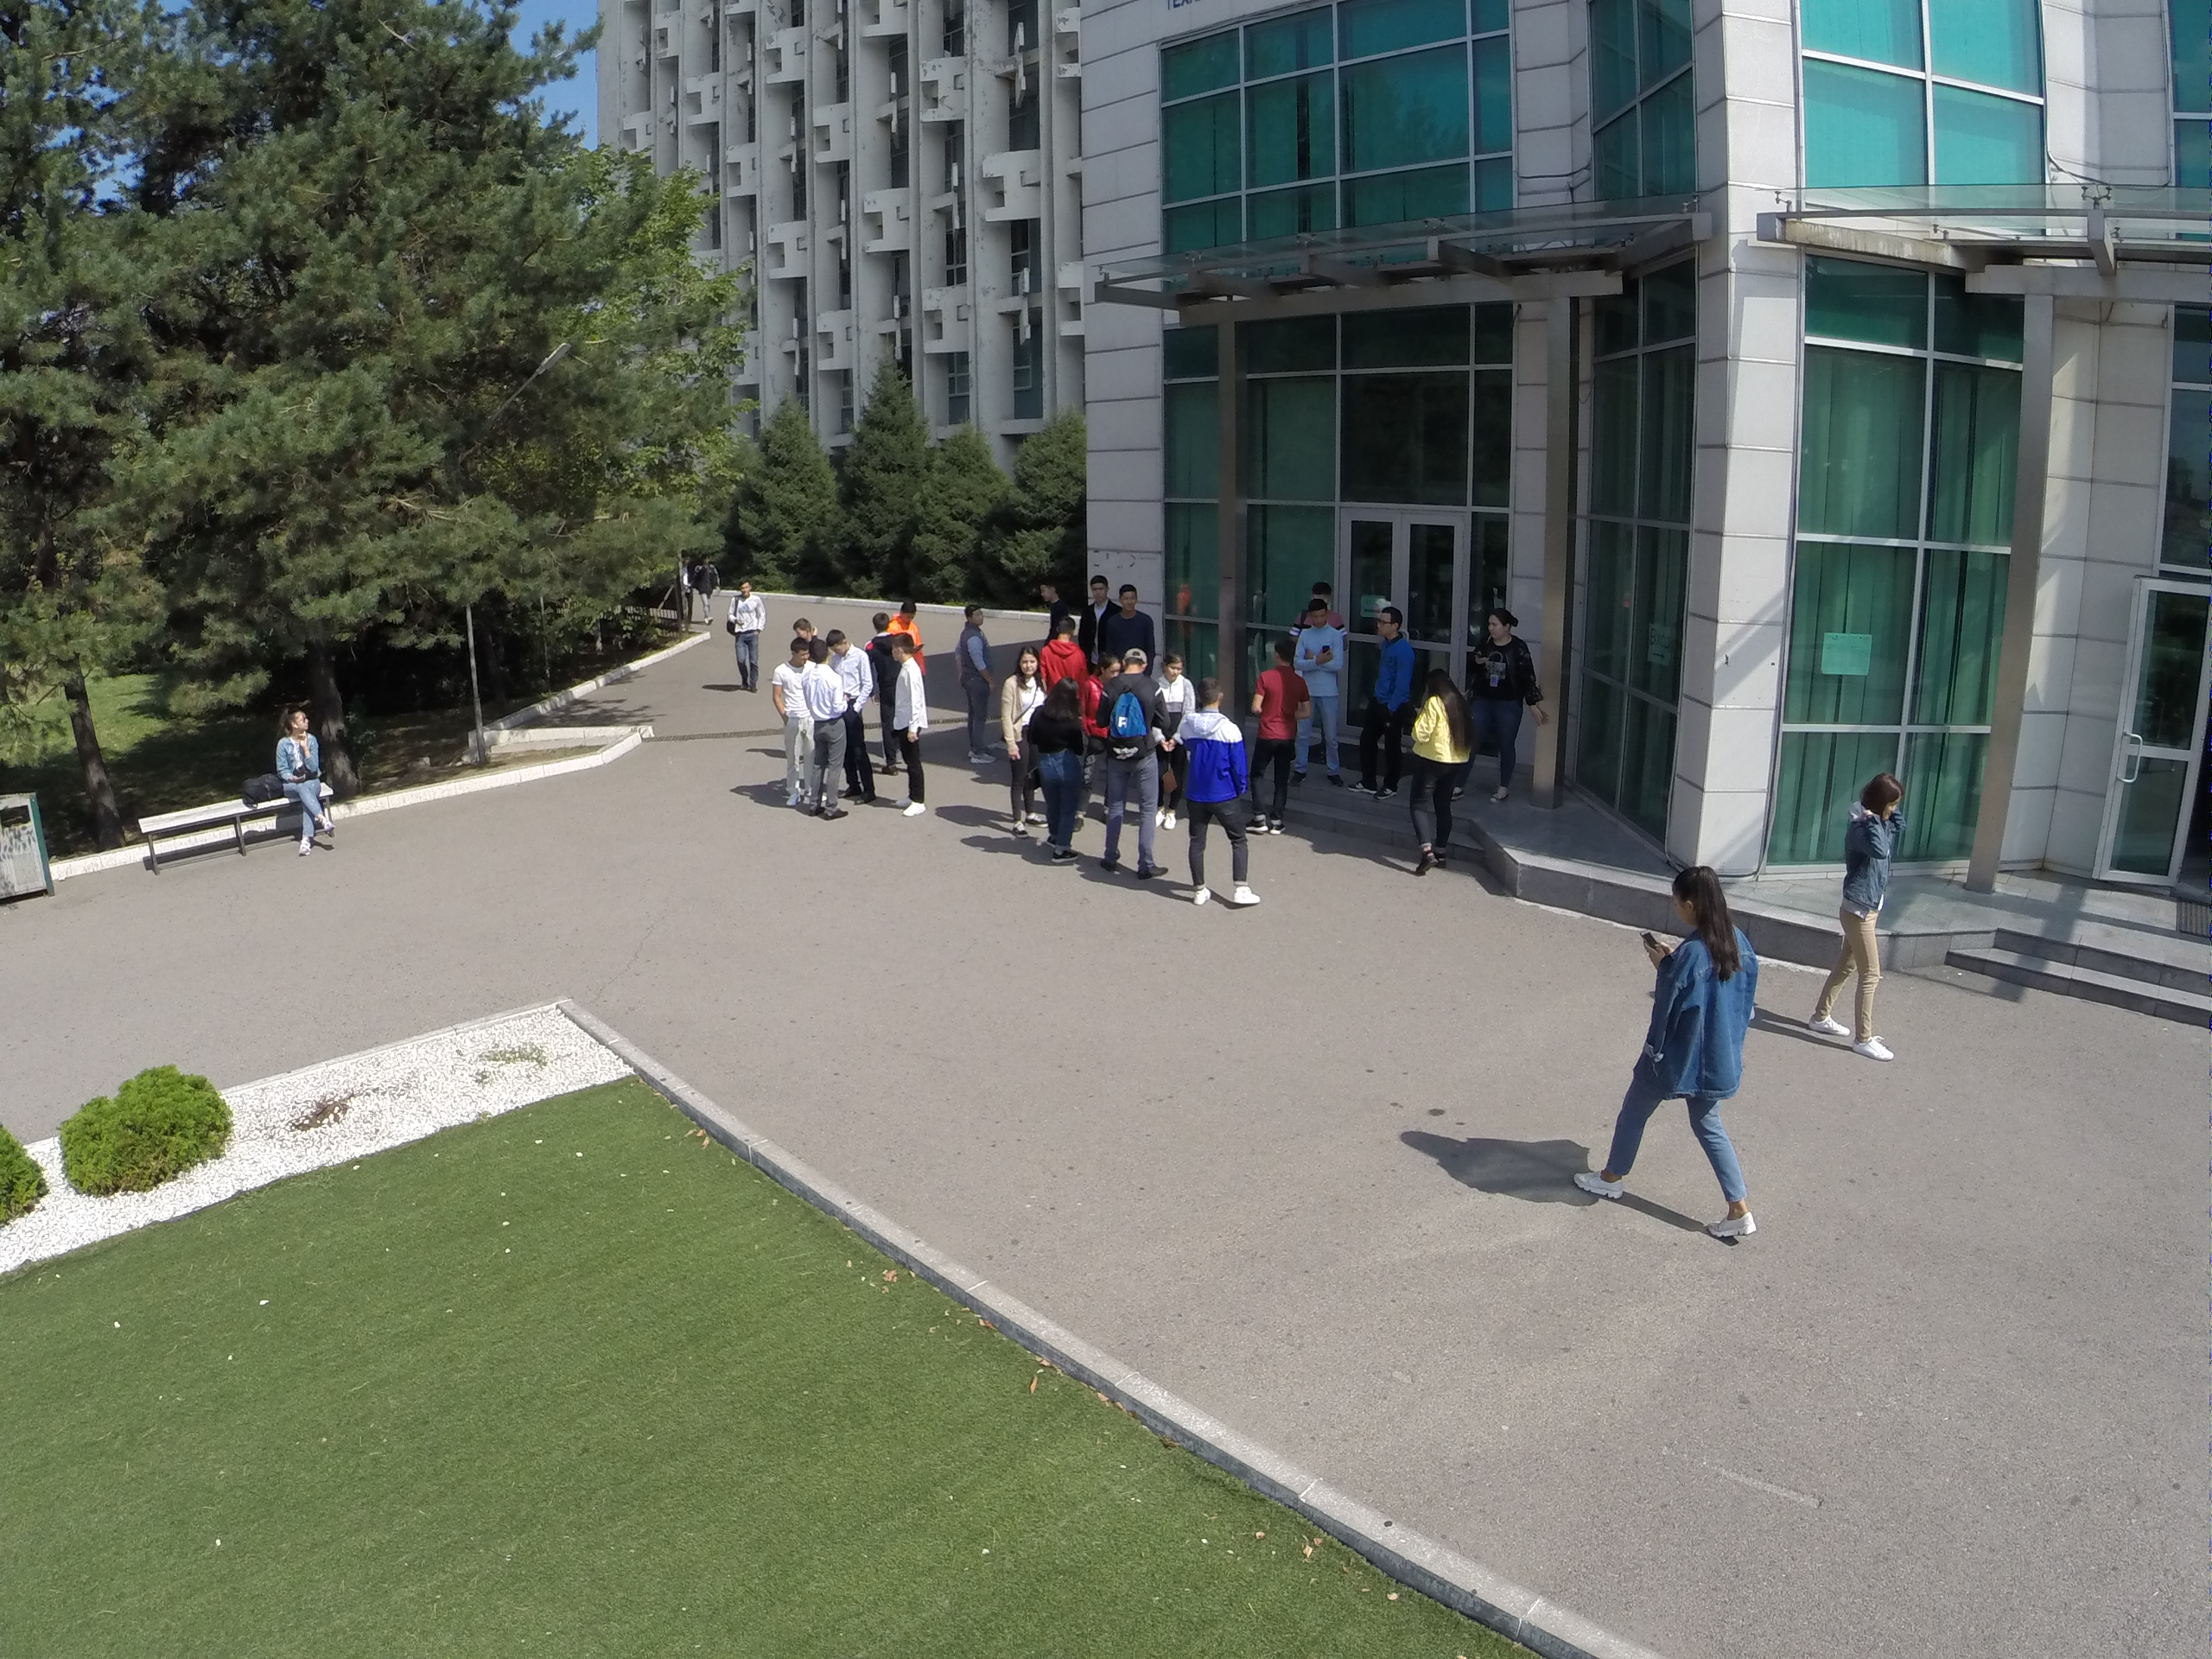person: (1575, 861, 1764, 1243), (1797, 769, 1916, 1077), (1450, 601, 1553, 810), (1177, 674, 1258, 912), (1398, 665, 1470, 887), (1107, 652, 1160, 877), (1250, 635, 1302, 832), (1359, 605, 1410, 796), (276, 702, 337, 854), (1298, 602, 1345, 782), (829, 627, 874, 811), (887, 630, 928, 823), (1040, 675, 1079, 867), (1004, 649, 1040, 838), (803, 643, 838, 819), (954, 605, 991, 769), (776, 638, 807, 810), (727, 580, 762, 695), (1105, 582, 1160, 649), (1157, 656, 1200, 721), (1049, 616, 1090, 676), (1084, 574, 1115, 656)
